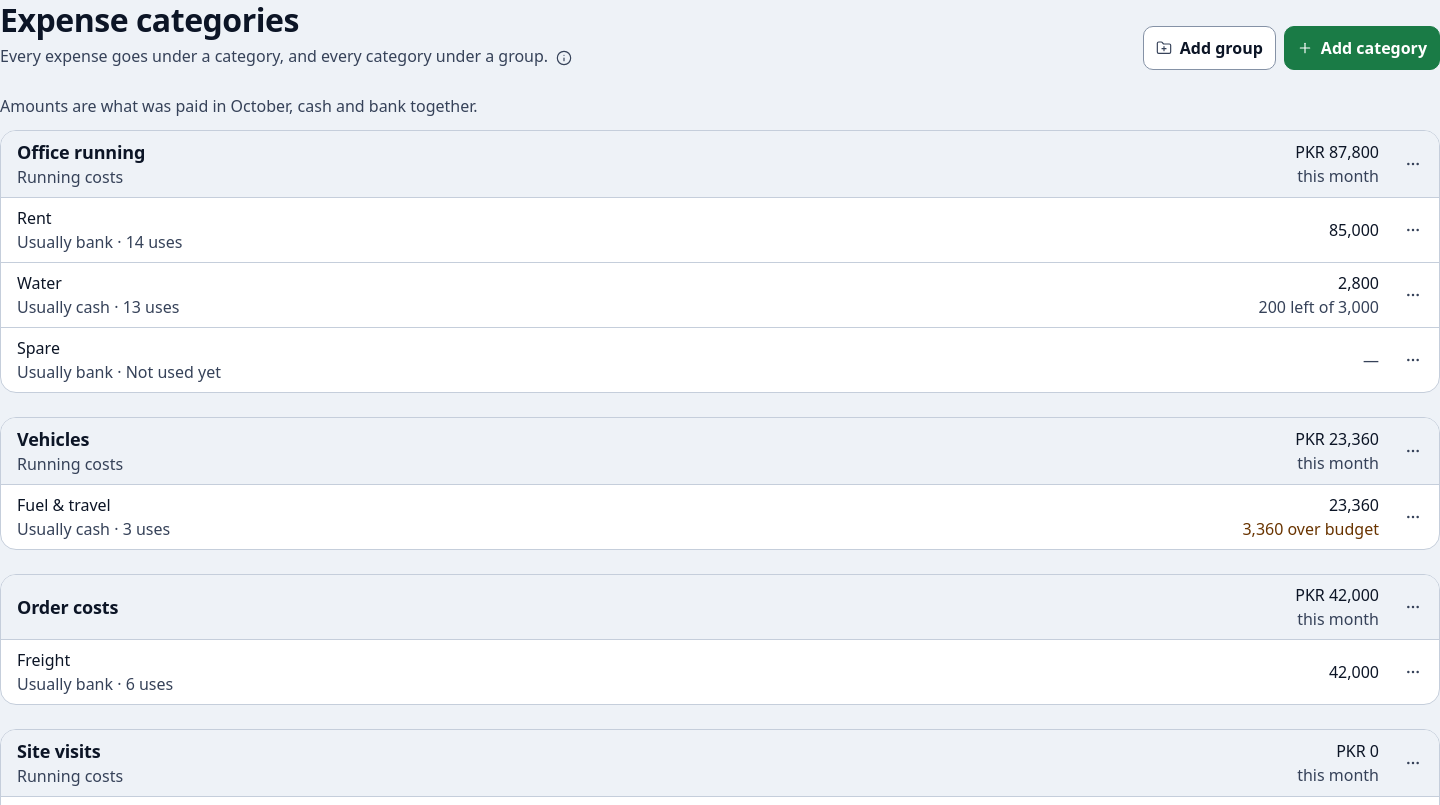
Scenario: Expense categories (M13, 0086) › merges into a category of the same kind first, saying how many records move
The width and height of the screenshot is (1440, 805).
Click the button named "More for Water": (1413, 295) [1391, 273, 1435, 317]
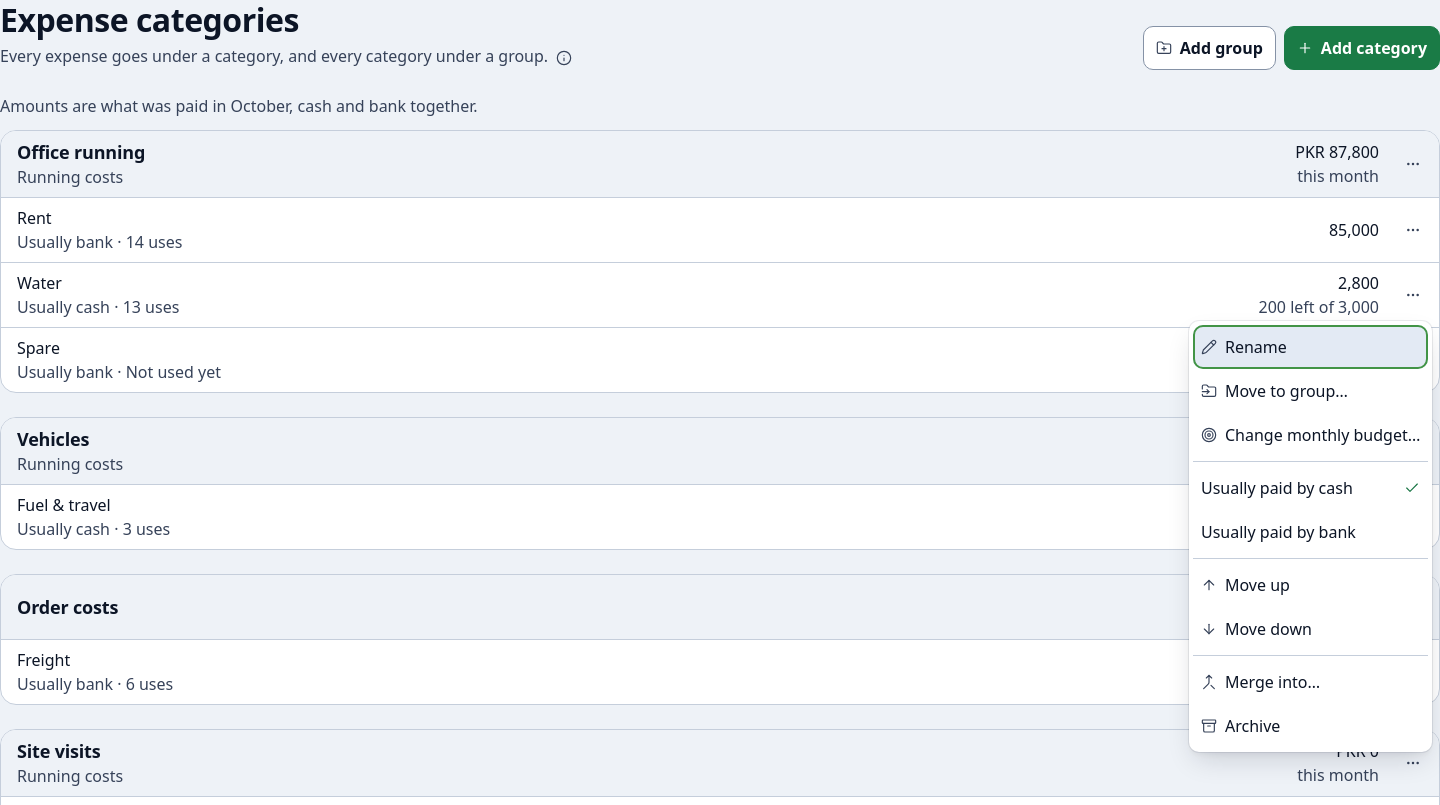
Click the menu item "Merge into…": (1311, 682) [1193, 660, 1428, 704]
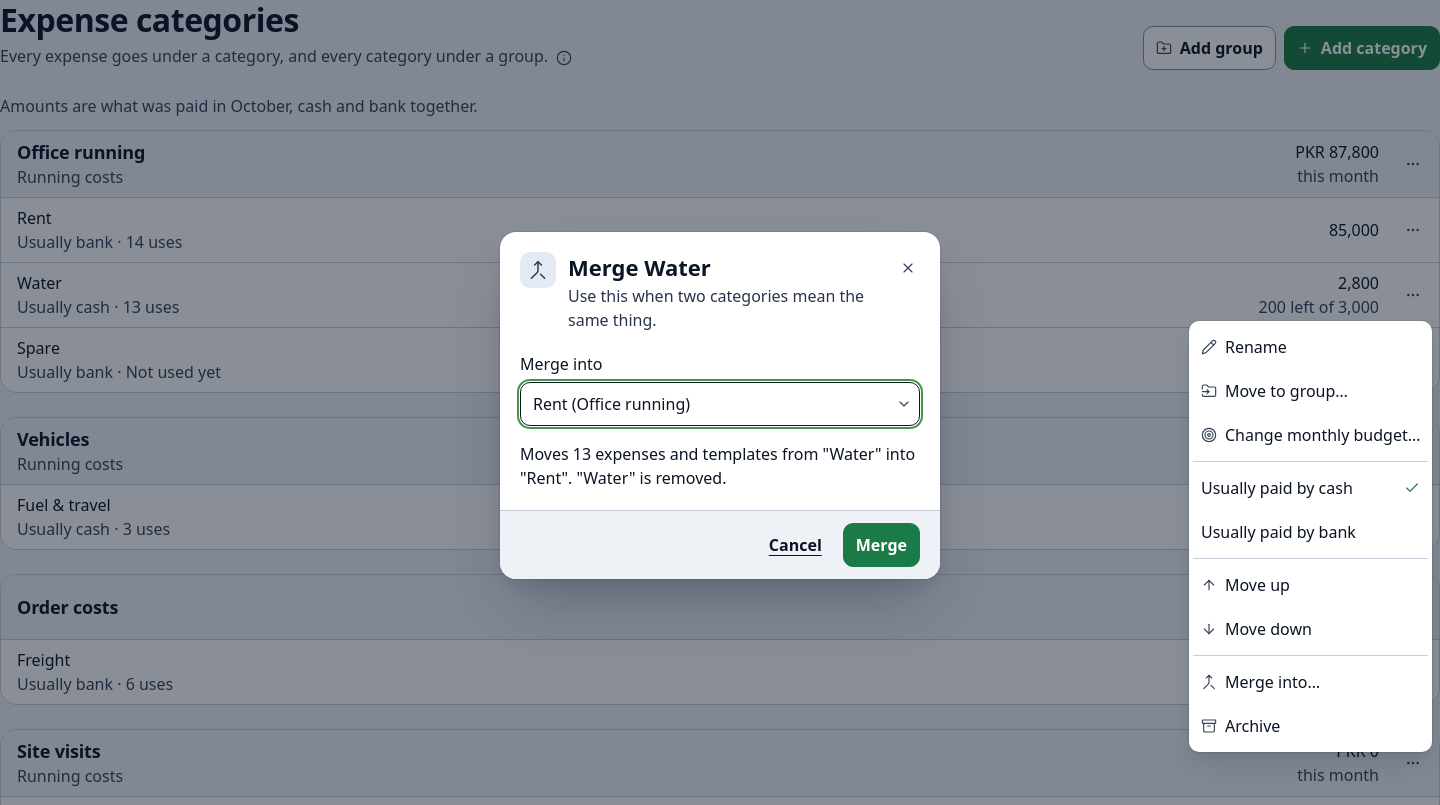
Check: the text with test id "merge-summary" reads "Moves 13 expenses and templates from \"Water\" into \"Rent\". \"Water\" is removed.", box [520, 442, 915, 488]
Select "Freight (Order costs), order costs" in the dropdown labelled "Merge into": (720, 404) [520, 382, 920, 426]
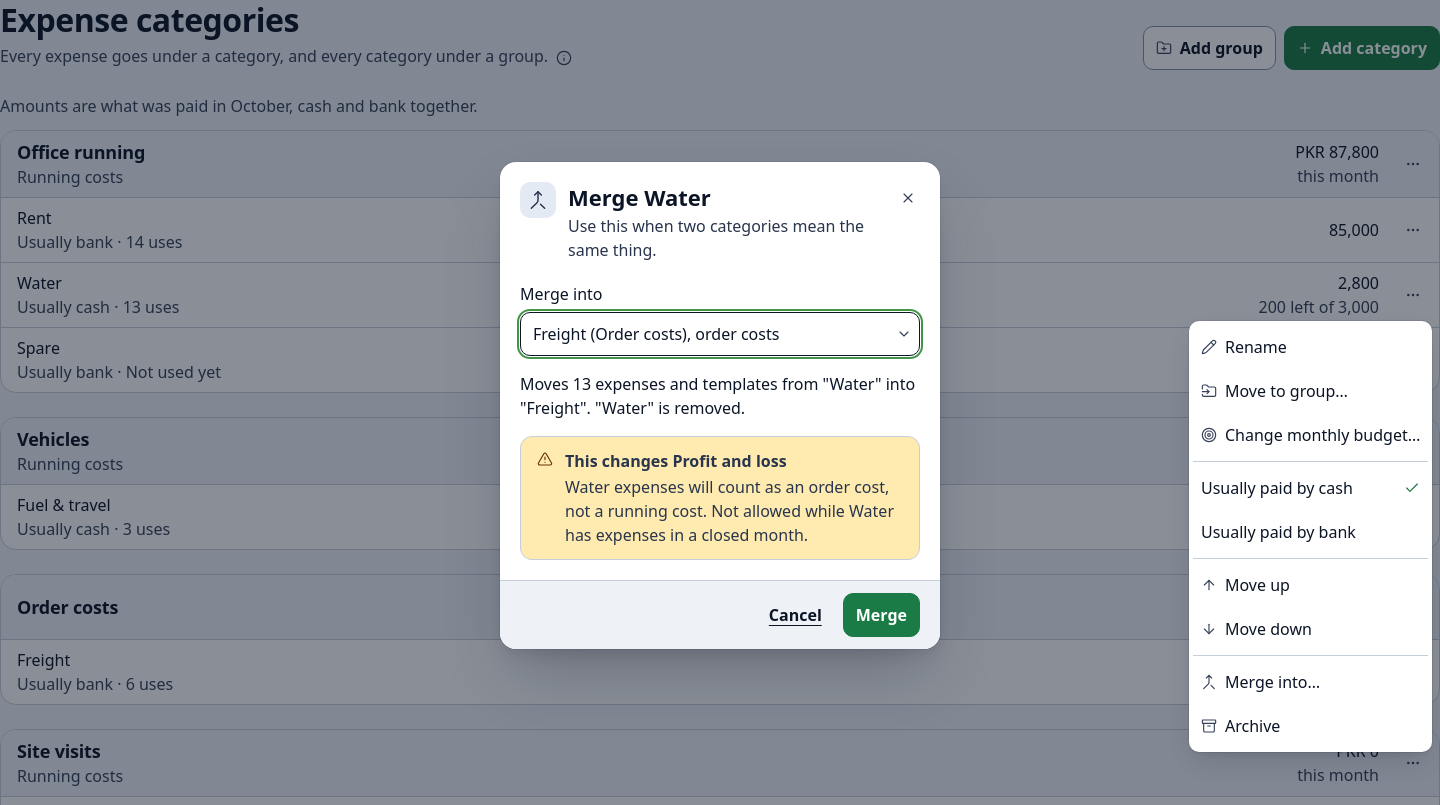
Check: the text "This changes Profit and loss" is shown, box [565, 450, 787, 472]
Select "Spare (Office running)" in the dropdown labelled "Merge into": (720, 334) [520, 312, 920, 356]
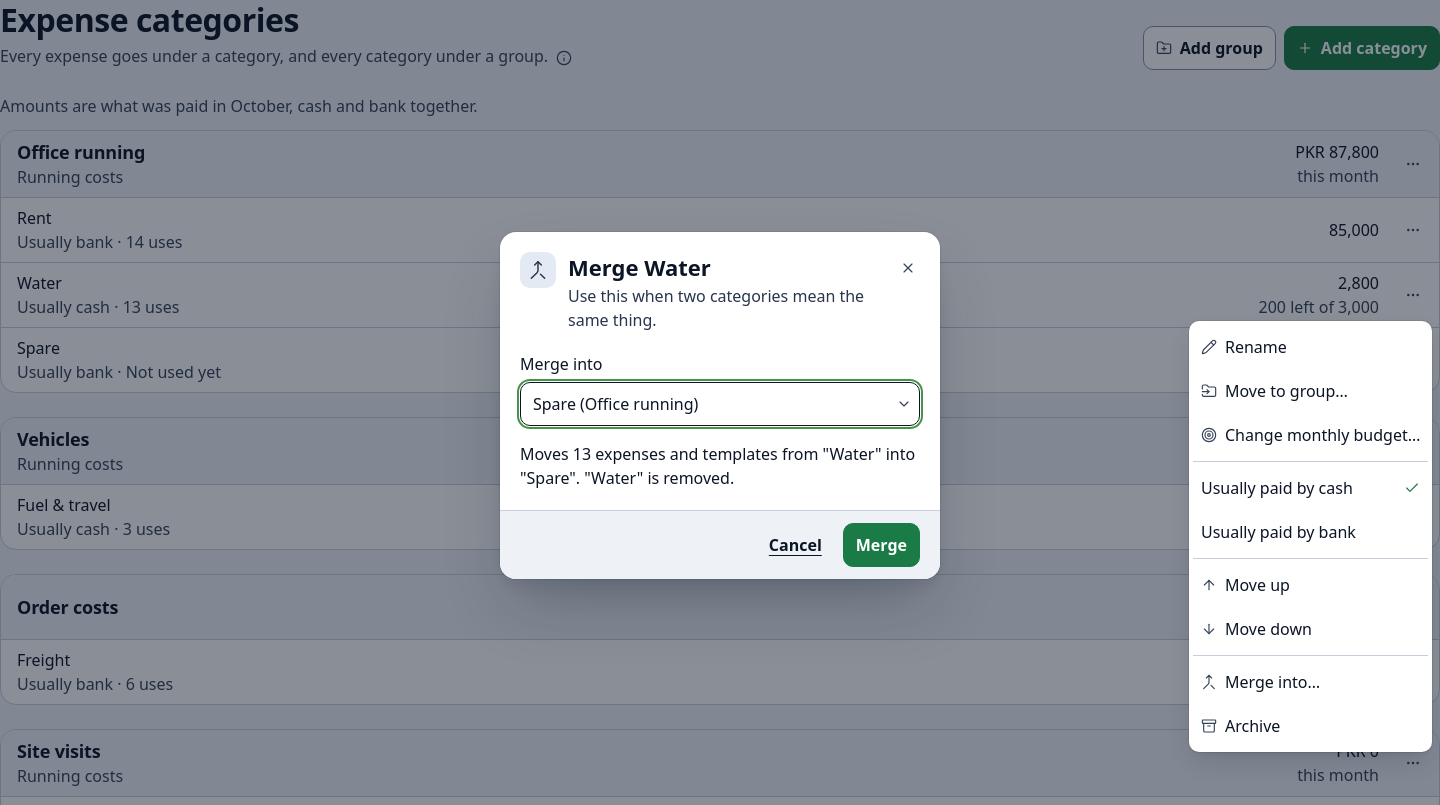
Click the button "Merge": (881, 544) [843, 522, 920, 566]
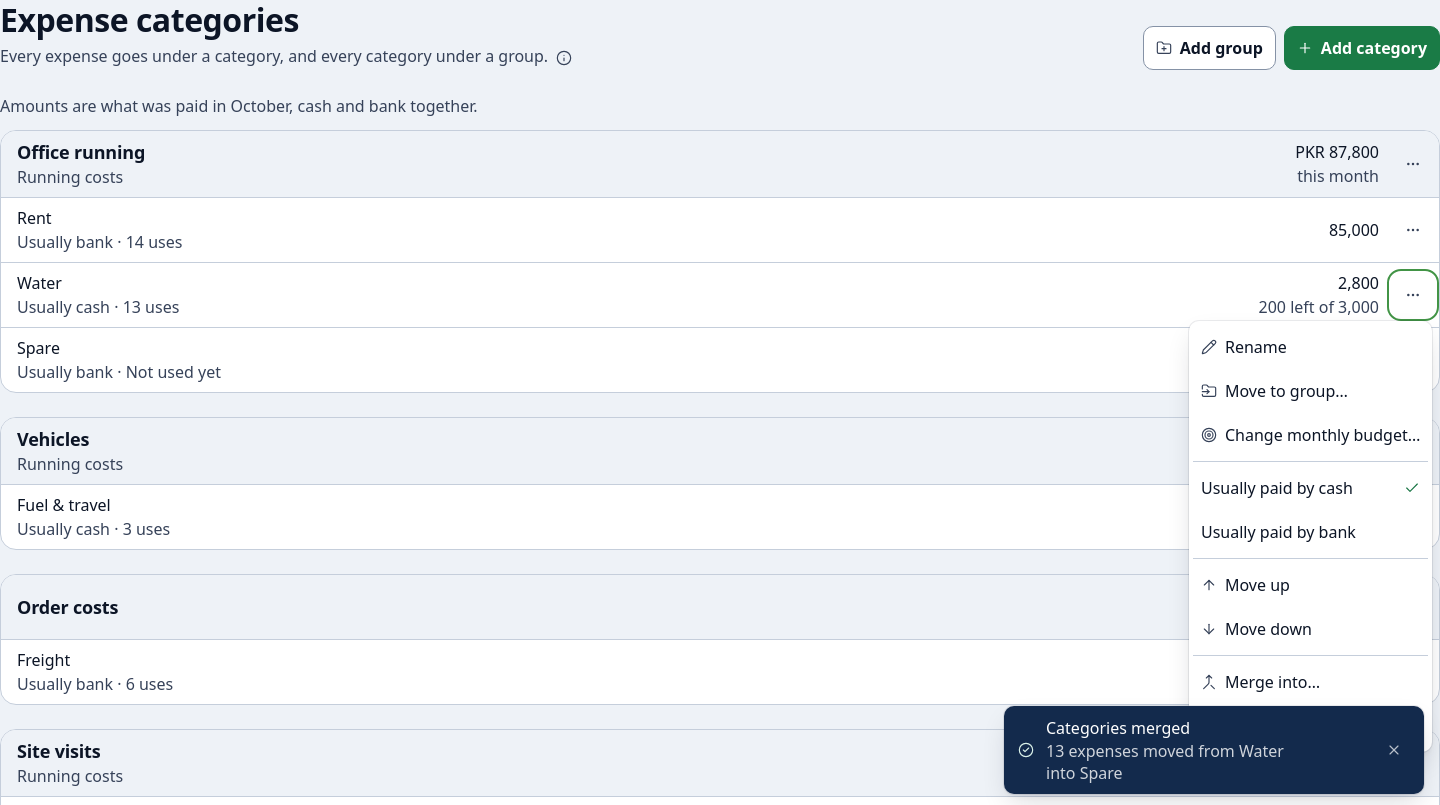
Check: the text "13 expenses moved from Water into Spare" is shown, box [1046, 740, 1284, 784]
